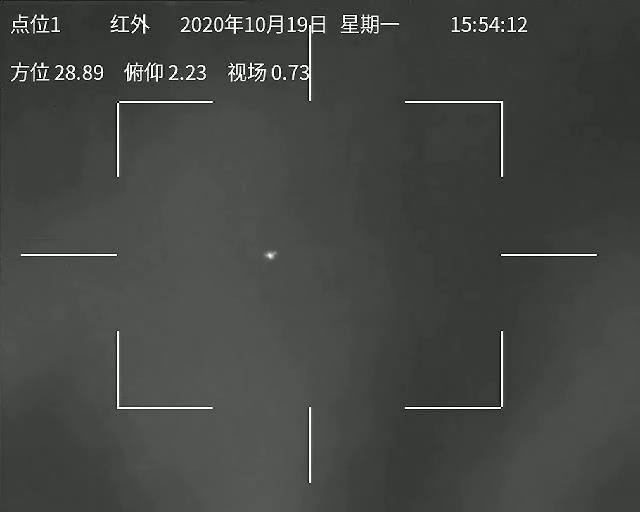uav: (262, 250, 279, 262)
